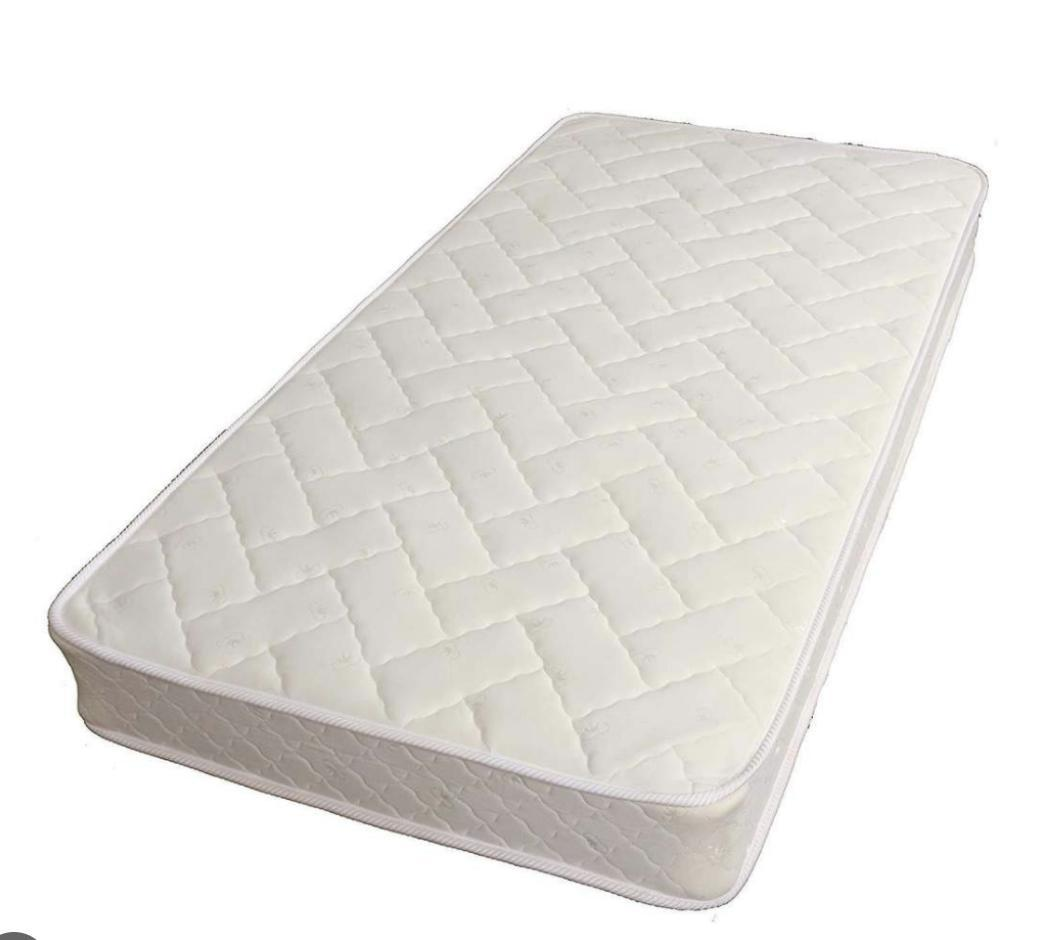Bed-Mattress: (29, 97, 1006, 932)
